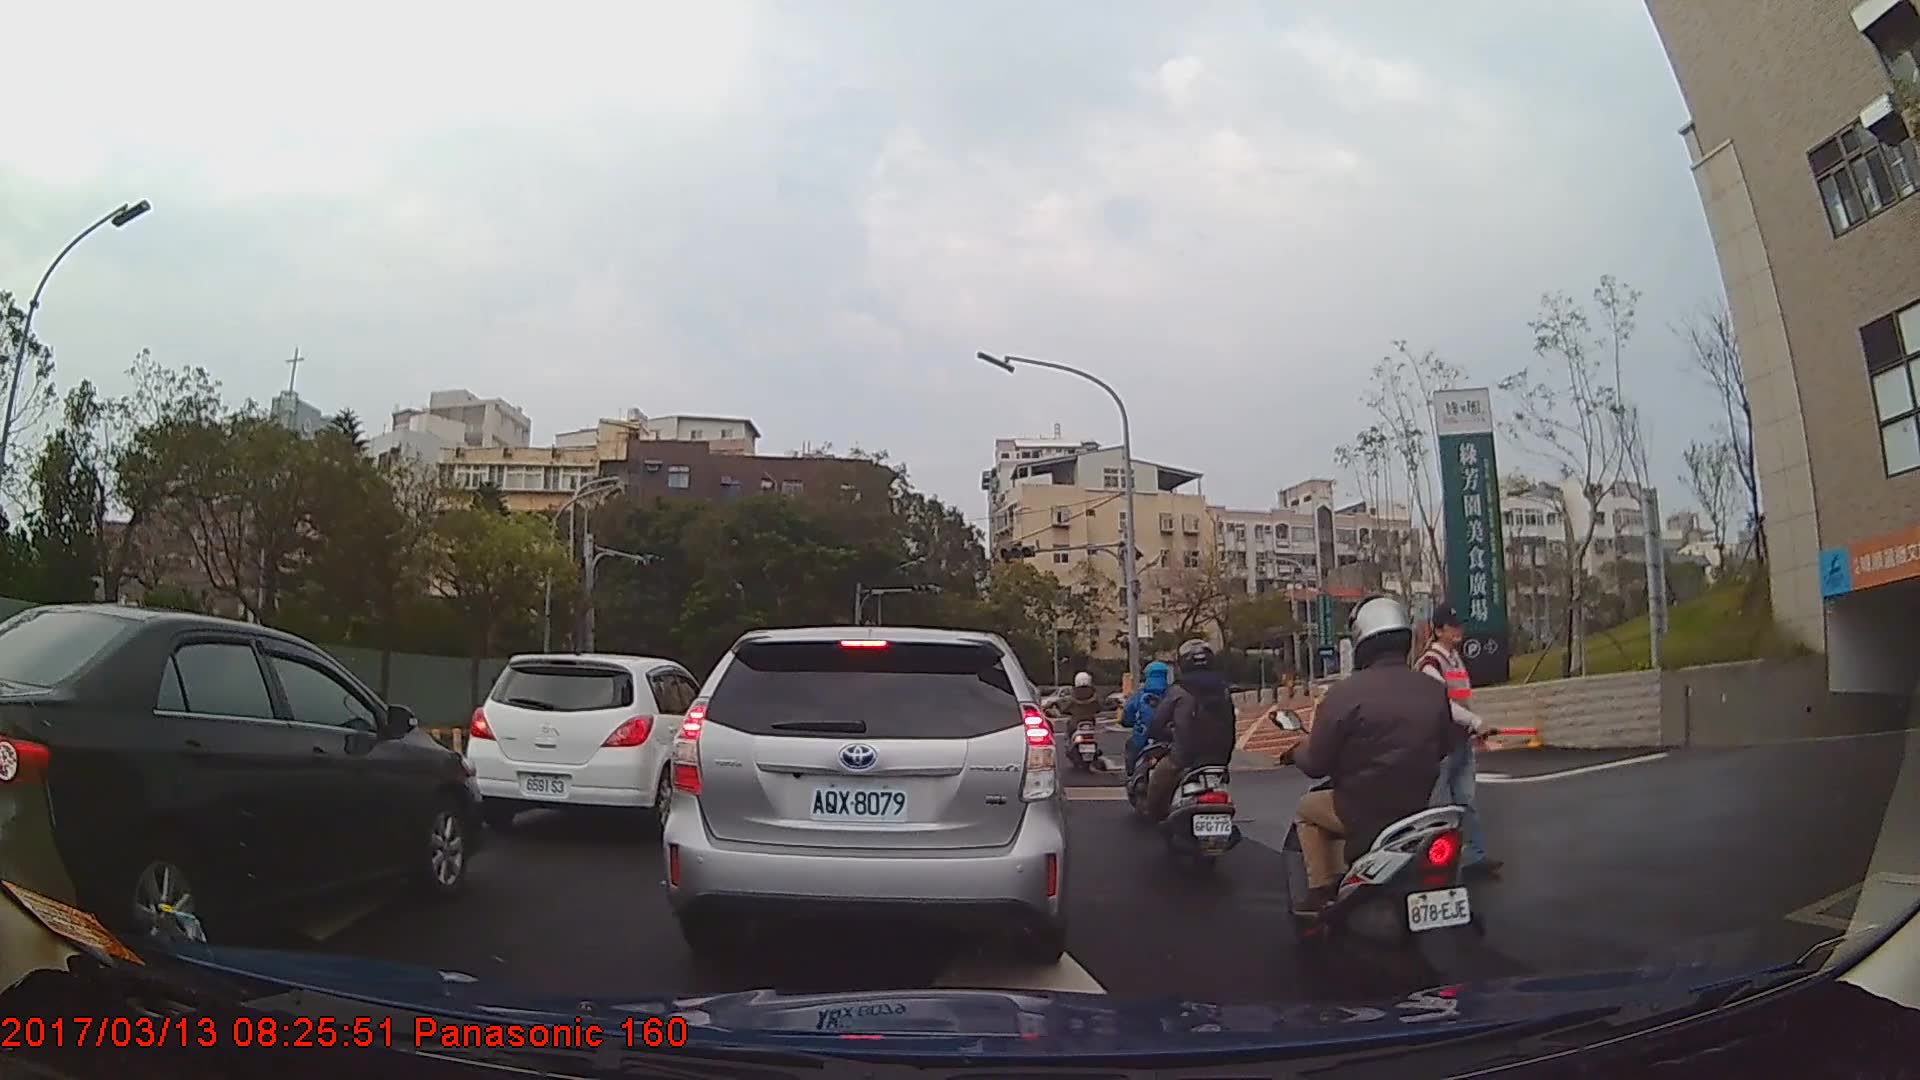pedestrian: (1397, 603, 1538, 879)
rider: (1276, 595, 1488, 986), (1143, 639, 1240, 874), (1114, 661, 1174, 816), (1063, 671, 1105, 775)
vehicle: (0, 601, 480, 964), (661, 625, 1067, 958), (465, 652, 721, 831)
